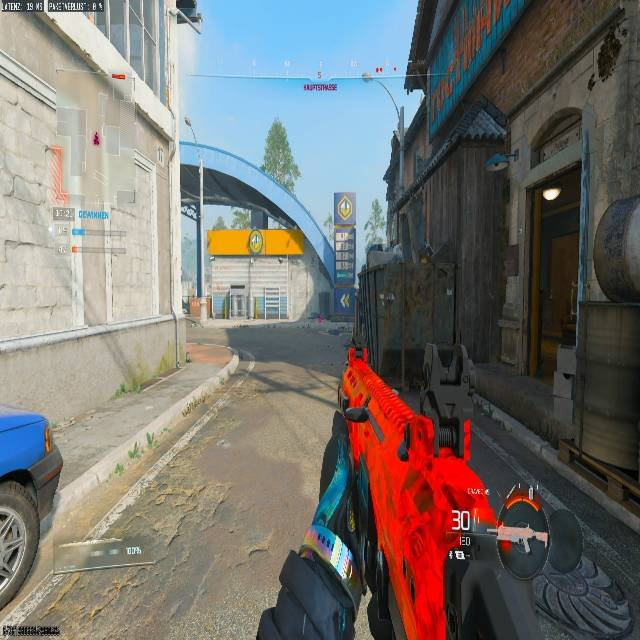player: (341, 293, 348, 308)
